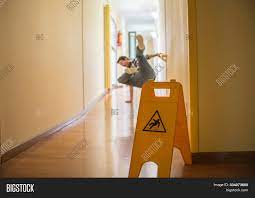wet caution sign: (119, 73, 206, 181)
